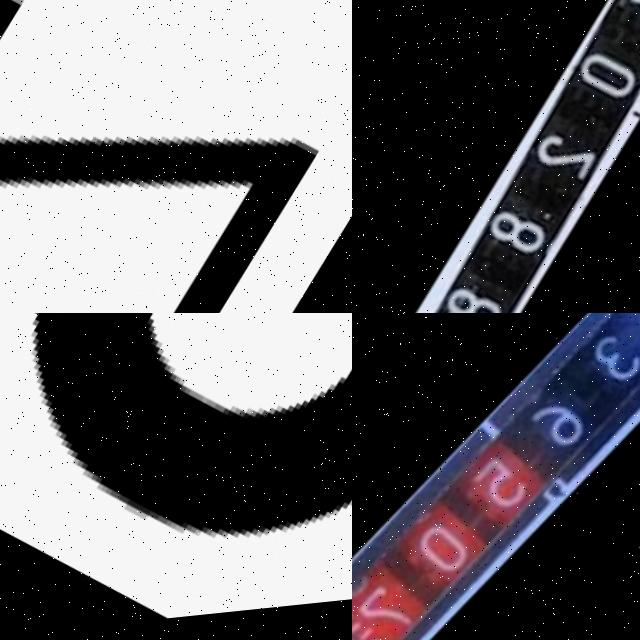0: (407, 513, 482, 587), (568, 48, 640, 117)
2: (0, 0, 329, 313), (528, 125, 601, 194), (611, 0, 640, 39)
3: (575, 320, 640, 401)
5: (461, 449, 542, 528)
6: (518, 387, 598, 465)
7: (352, 572, 427, 640)
8: (480, 202, 555, 273), (438, 277, 512, 313)
O: (0, 313, 352, 640)
